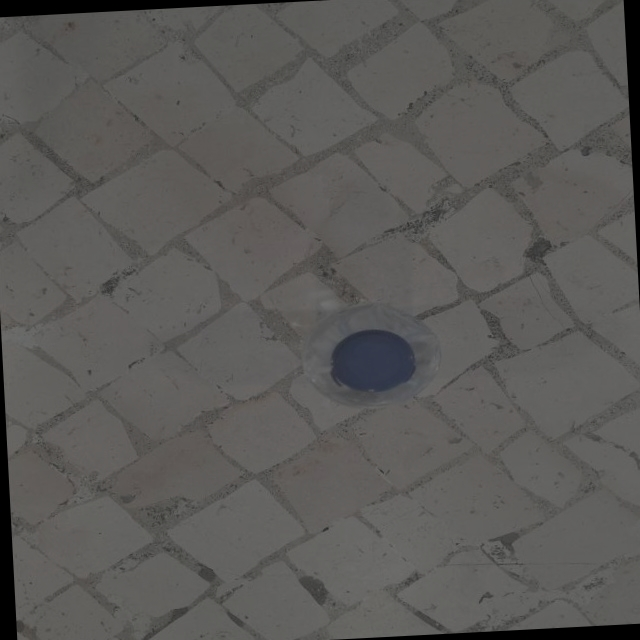Plastic-bottle: (294, 301, 442, 415)
